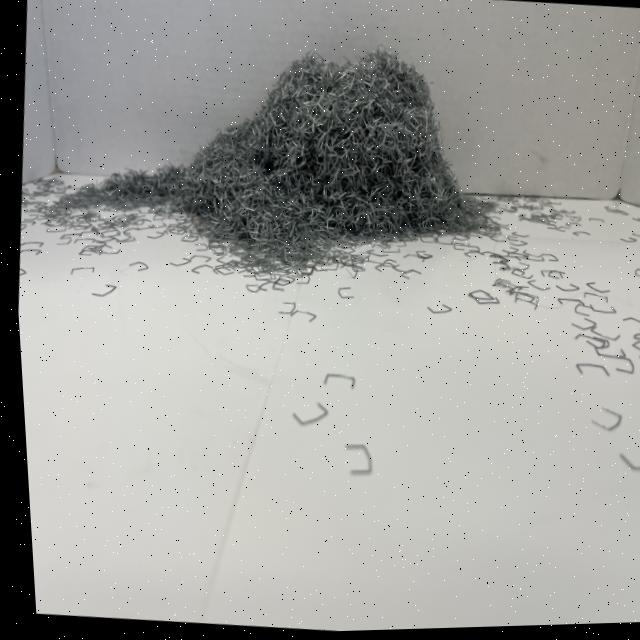staples: (46, 11, 510, 288)
